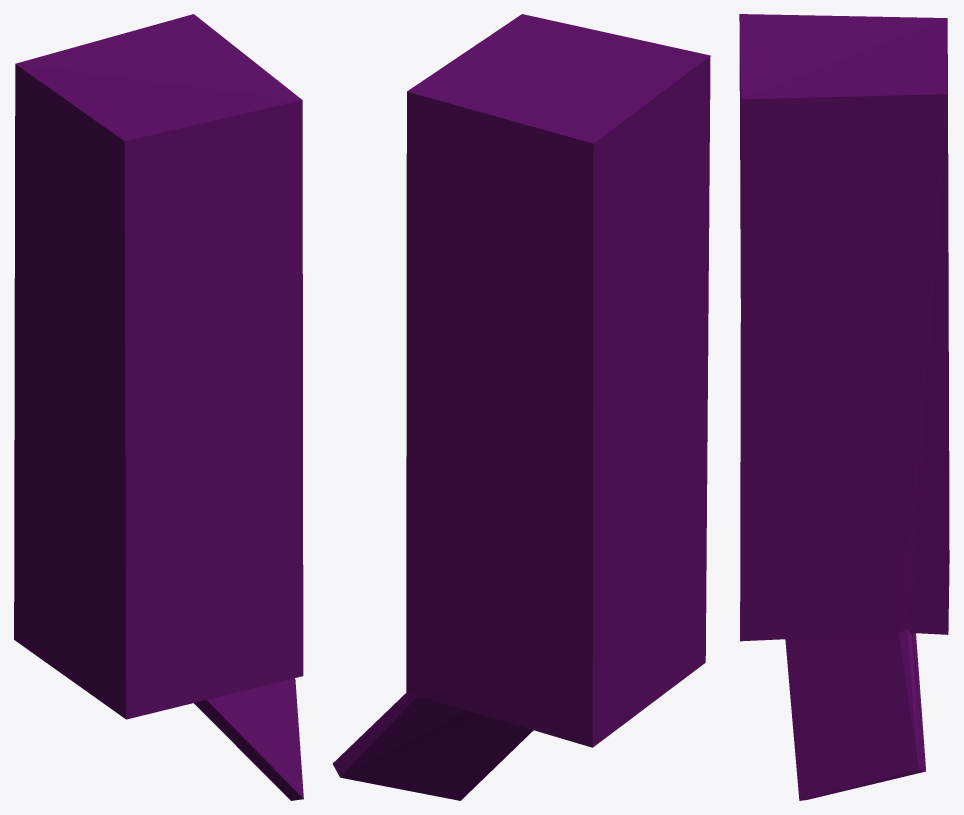
3 renders of one model, left to right at view 1: azimuth 30°, elevation 25°; view 2: azimuth 150°, elevation 25°; view 3: azimuth 270°, elevation 25°, orthographic. The views are drawn at different scales.
Visible parts, largest first — view 1: 383_Cube.1562; view 2: 383_Cube.1562; view 3: 383_Cube.1562.
Part boxes in pixels (left/top/right/bottom): 383_Cube.1562: left=14, top=14, right=303, bottom=800; 383_Cube.1562: left=332, top=14, right=710, bottom=800; 383_Cube.1562: left=739, top=14, right=949, bottom=800.
Bounding box in the file's own units: 5.82 × 15.43 × 4.23.
